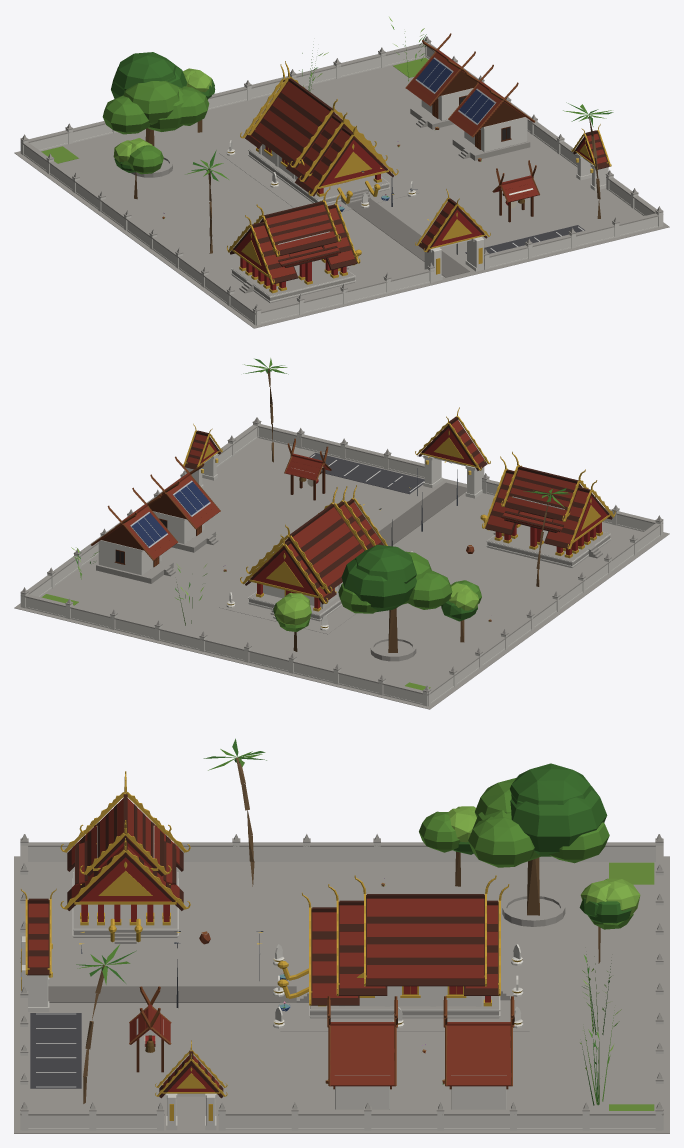
File: temple_1.glb
3 views of the same model, one above another, from view 1: azimuth 30°, elevation 25°; view 2: azimuth 150°, elevation 25°; view 3: azimuth 270°, elevation 25° (orthographic). The views are drawn at different scales.
Visible parts, largest first — view 1: body; view 2: body; view 3: body.
Part boxes in pixels (left/top/right/bottom): body: left=14, top=17, right=669, bottom=328; body: left=14, top=358, right=669, bottom=709; body: left=14, top=738, right=669, bottom=1133.
Size of the model in its own units: 47.9 by 12.13 by 47.9.
